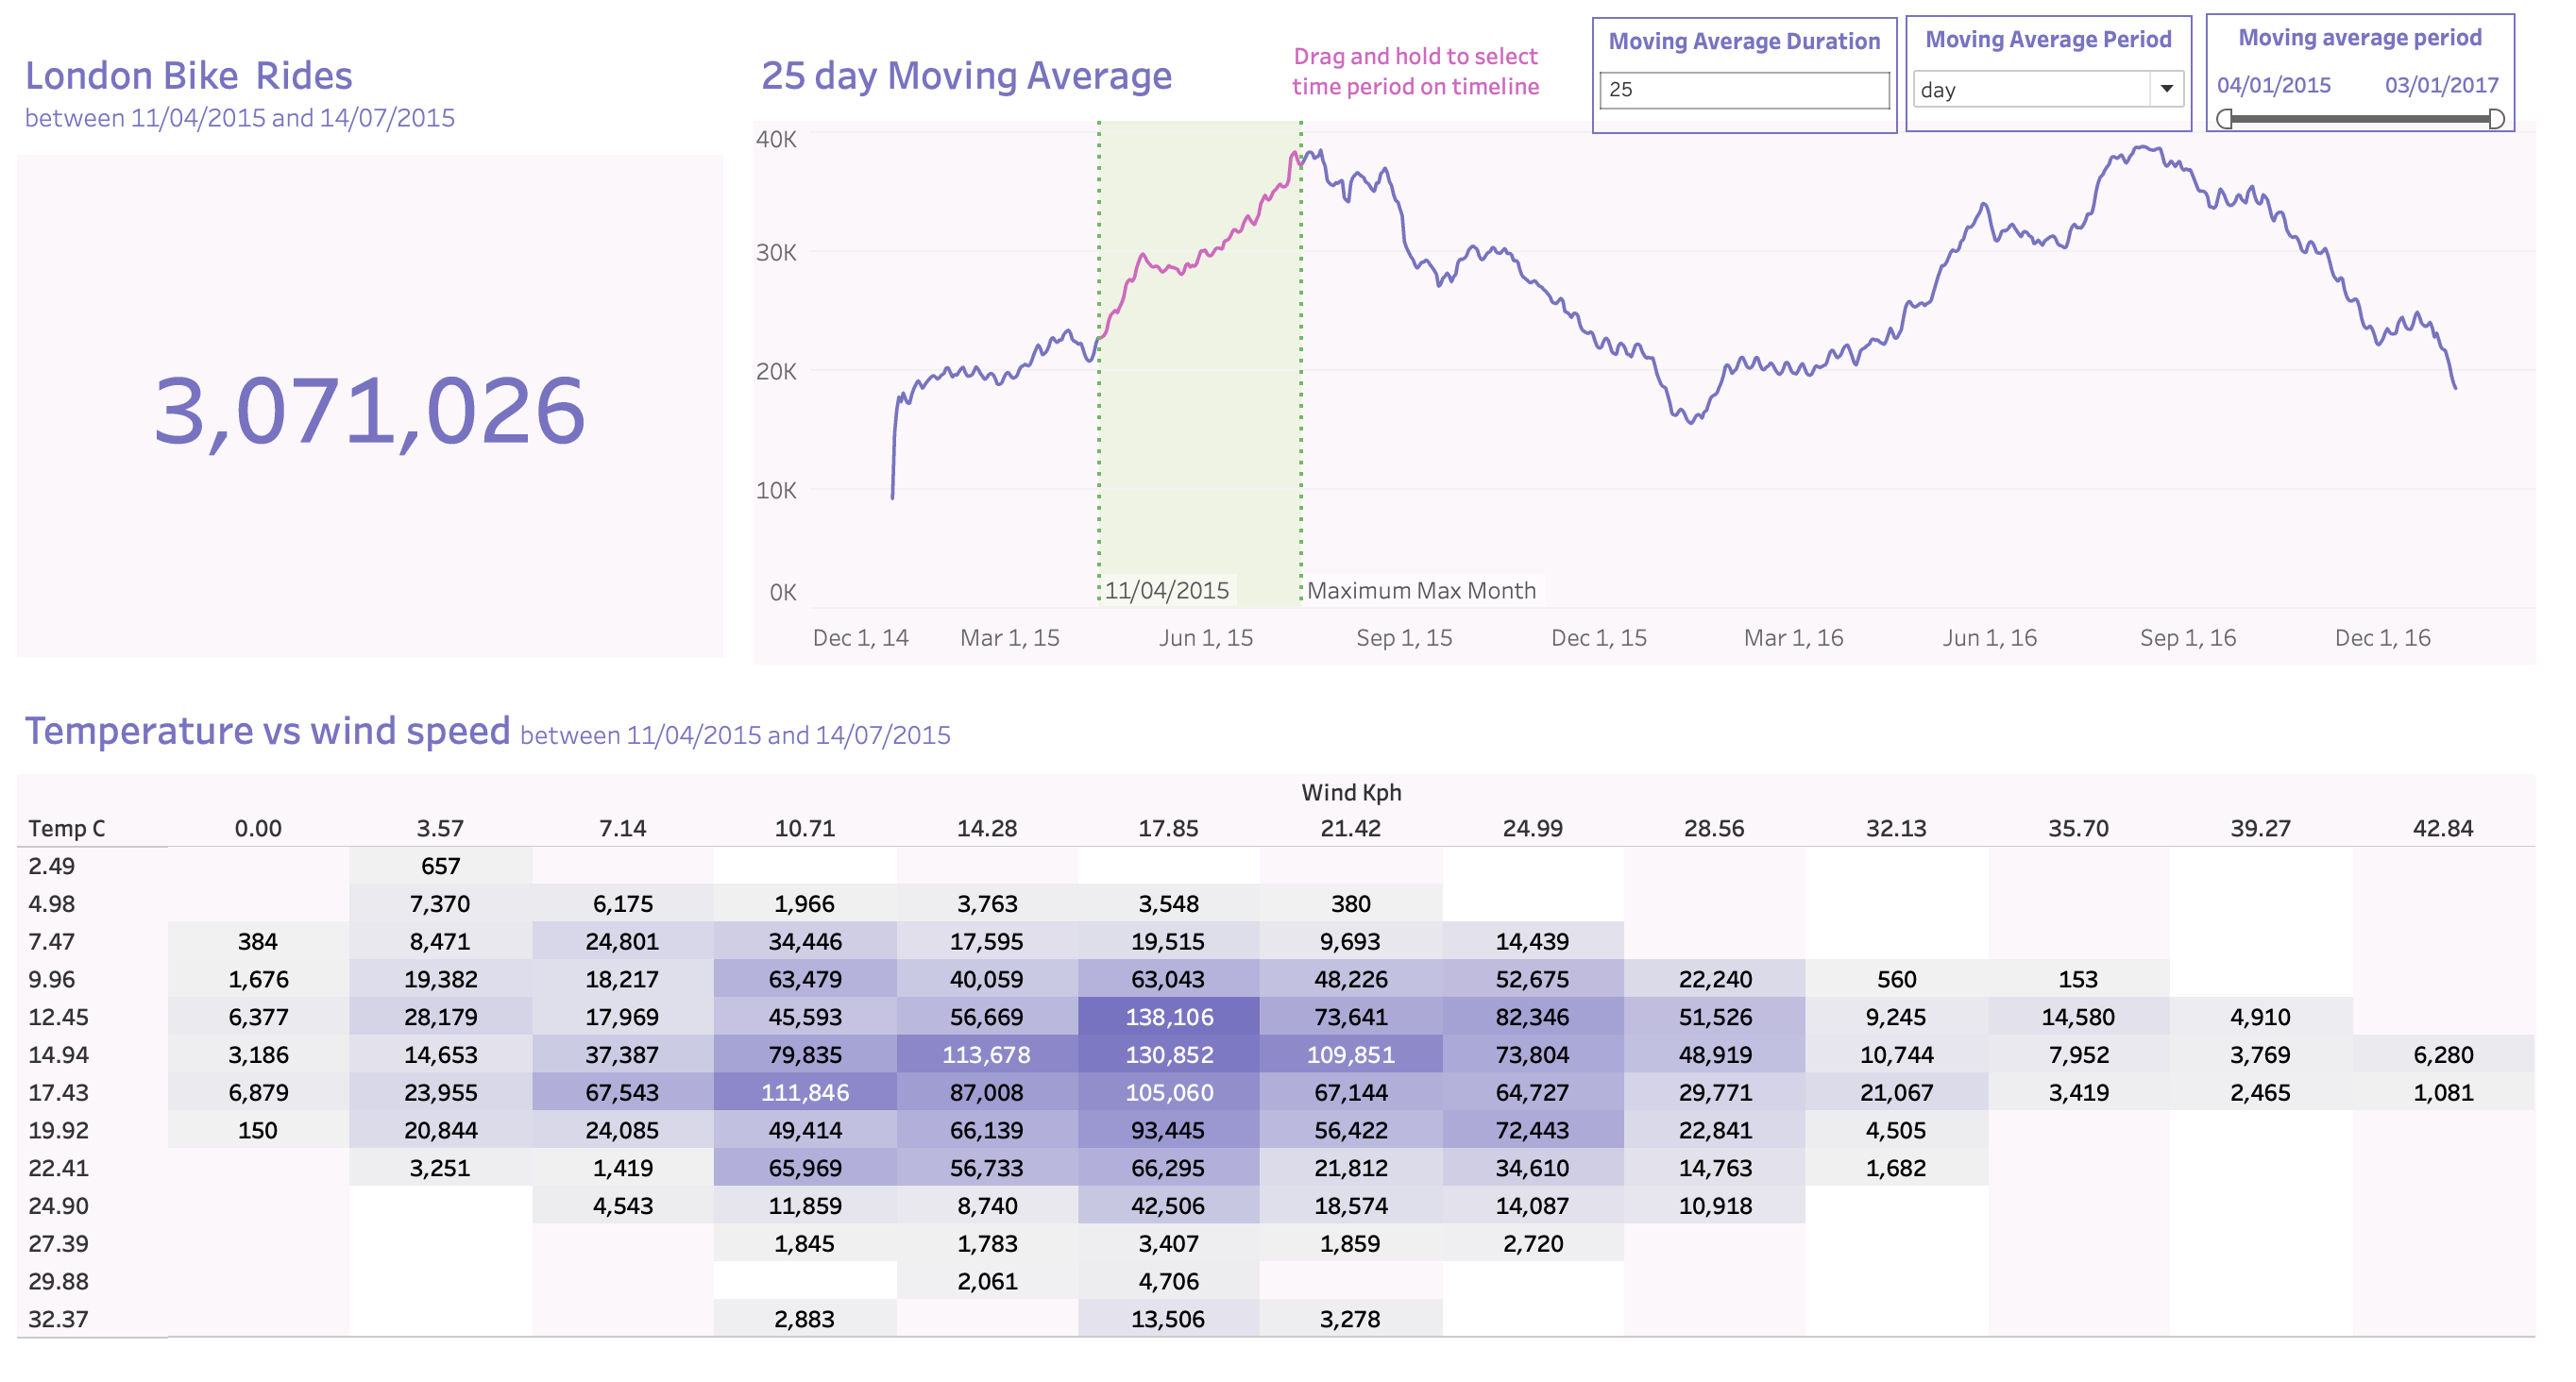

This screenshot's page, from the dashboard's own definition file:
{"tool":"tableau","page":{"name":"Dashboard 1","canvas":[1366,768],"ordinal":0},"visuals":[{"type":"filter","title":"MovingAverage","param":"[federated.0e50hwc00t039y1g81yde0y3uqv3].[none:Calculation_213639543181651968:qk","box":[1175,2,164,63]},{"type":"parameter","param":"[Parameters].[Parameter 1]","box":[1016,3,152,62]},{"type":"parameter","param":"[Parameters].[Parameter 2]","box":[850,4,162,62]},{"type":"worksheet","title":"TotalRides","mark":"Automatic","box":[8,8,390.3,347.5]},{"type":"worksheet","title":"MovingAverage","mark":"Automatic","rows":["Calculation1"],"cols":["Calculation_213639543181651968"],"box":[398.3,8,959.7,347.5]},{"type":"text","box":[670,10,174,45]},{"type":"worksheet","title":"Heatmap","mark":"Square","rows":["temp real C (bin)"],"cols":["Wind Speed Kph (bin)"],"box":[8,355.5,1350,404.5]}]}

Visuals, with their boxes on the page's 1366x768 design canvas (x1, y1, x2, y2). These are canvas units, not pixel positions in the 2576x1382 screenshot, which may show the page scaled, cropped or inside an application window:
"MovingAverage" filter: <bbox>1175, 2, 1339, 65</bbox>
parameter: <bbox>1016, 3, 1168, 65</bbox>
parameter: <bbox>850, 4, 1012, 66</bbox>
"TotalRides" worksheet: <bbox>8, 8, 398, 356</bbox>
"MovingAverage" worksheet: <bbox>398, 8, 1358, 356</bbox>
text: <bbox>670, 10, 844, 55</bbox>
"Heatmap" worksheet (Square marks): <bbox>8, 356, 1358, 760</bbox>
